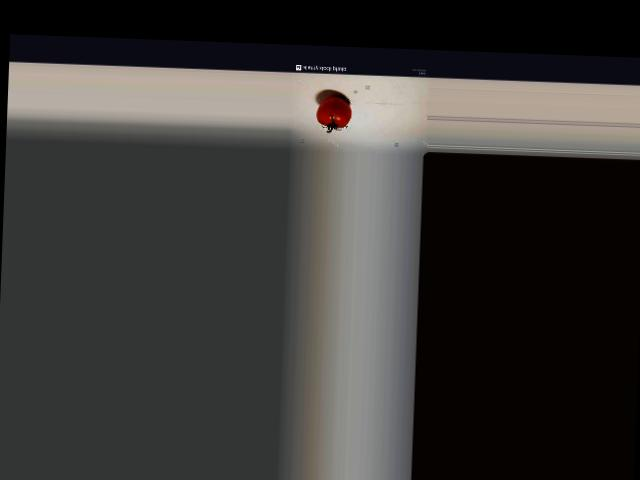tomato: (317, 95, 352, 127)
